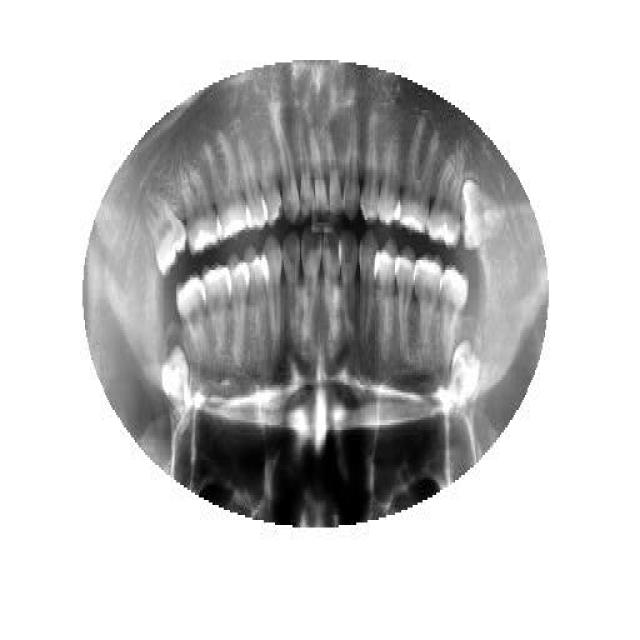Impacted Tooth: (142, 190, 188, 272), (460, 178, 501, 252)
